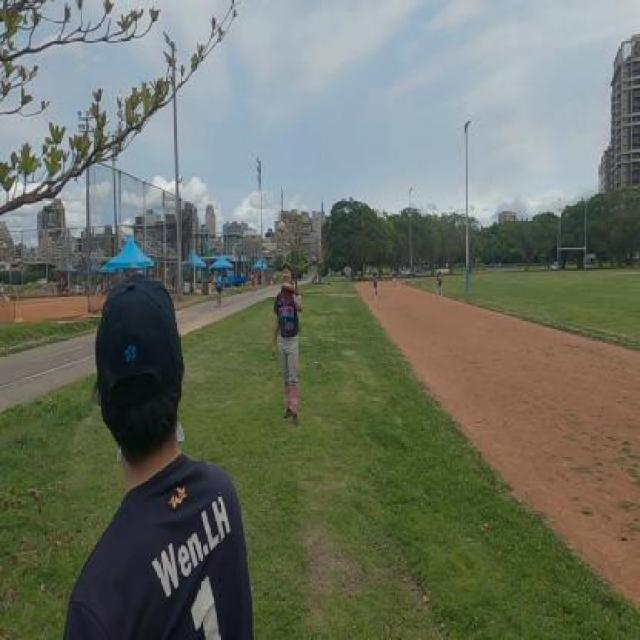baseball: (278, 221, 285, 233)
